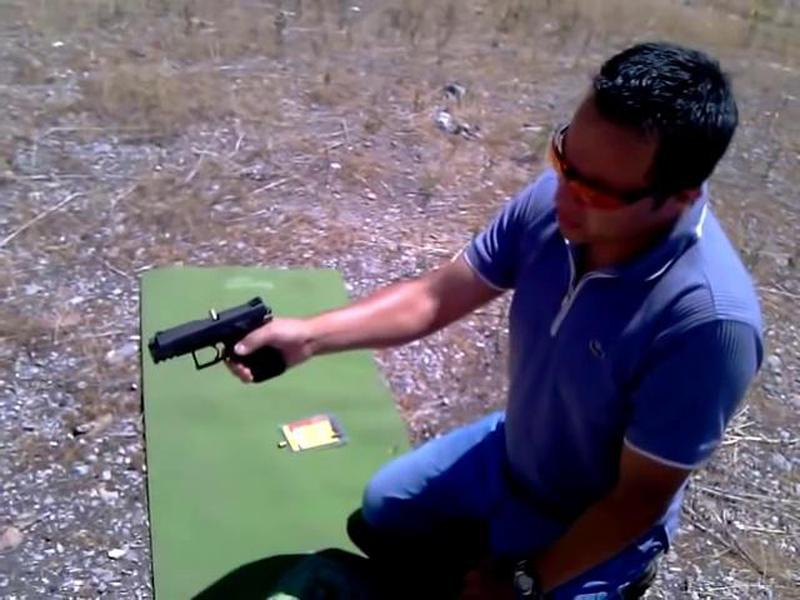Pistola: (128, 258, 297, 408)
